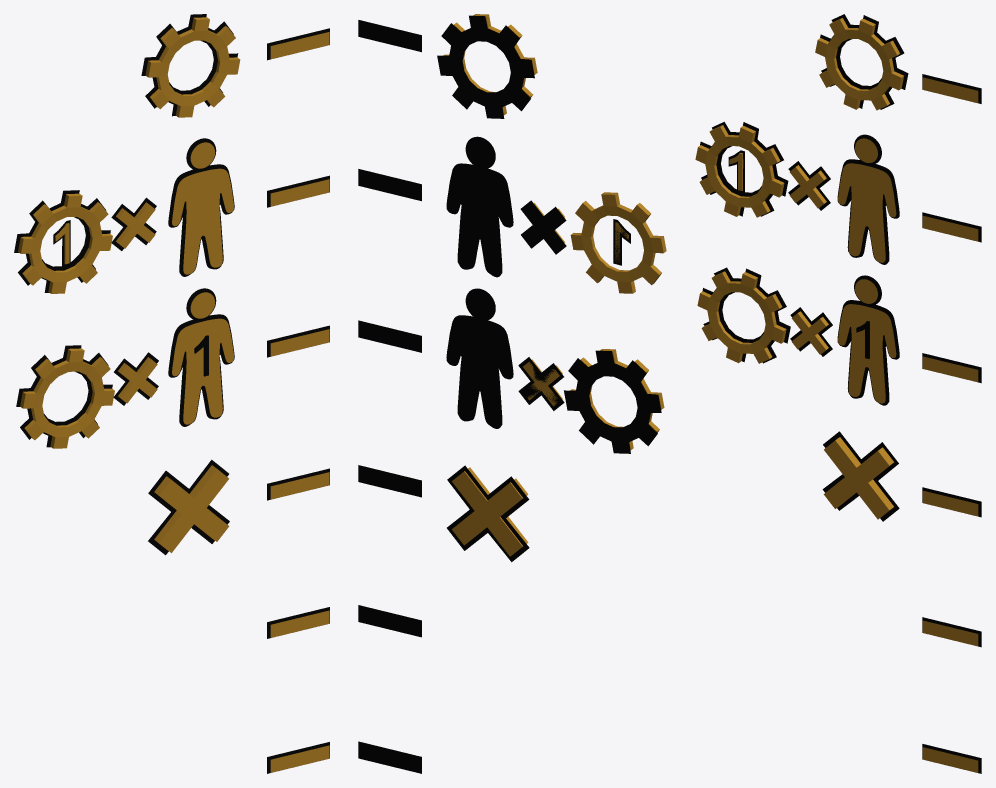
File: Popup.fbx
3 views of the same model, side by side, from view 1: azimuth 30°, elevation 25°; view 2: azimuth 150°, elevation 25°; view 3: azimuth 330°, elevation 25° (orthographic). The views are drawn at different scales.
Parts seen in each view (by area): view 1: Text.005; view 2: Text.005; view 3: Text.005.
Part boxes in pixels (bbox=[...]): Text.005: bbox=[14, 14, 329, 773]; Text.005: bbox=[358, 14, 666, 773]; Text.005: bbox=[695, 14, 981, 773].
Bounding box in the file's own units: 111 × 265 × 5.37.
